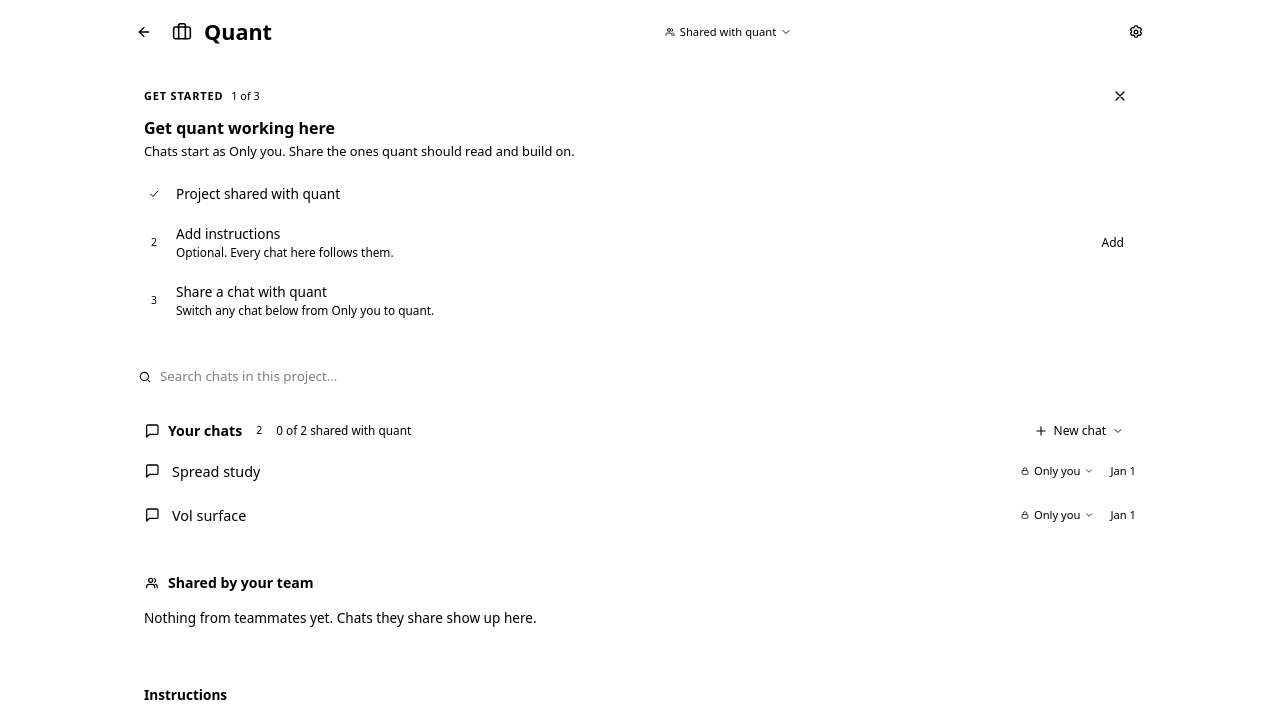
Test case: getting-started card on the page › shows until the person has shared a chat here, and X hides it for now
Check: the element with test id "getting-started" shows "GET STARTED", box [144,88,223,103]
Check: the element with test id "getting-started" shows "1 of 3", box [128,64,1152,345]
Click the button named "Dismiss getting started". click: (1120, 96)
box: [1104,80,1136,112]
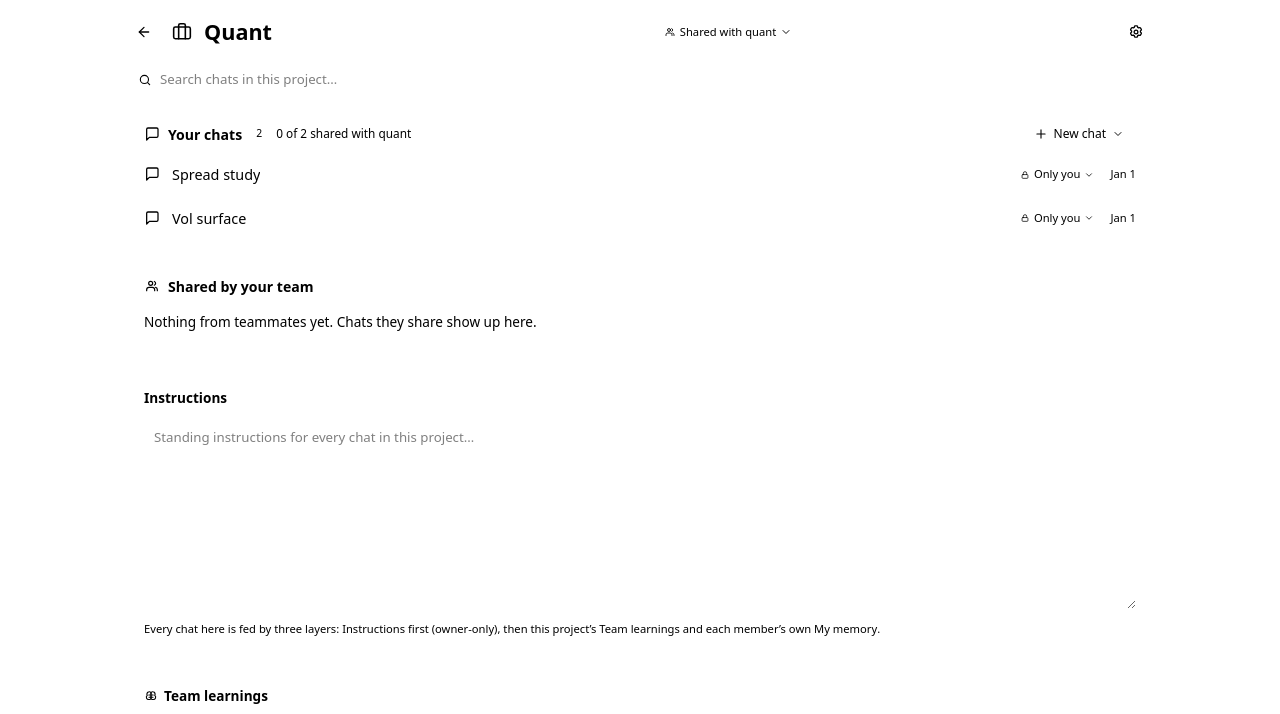
Check: the element with test id "getting-started" is gone
